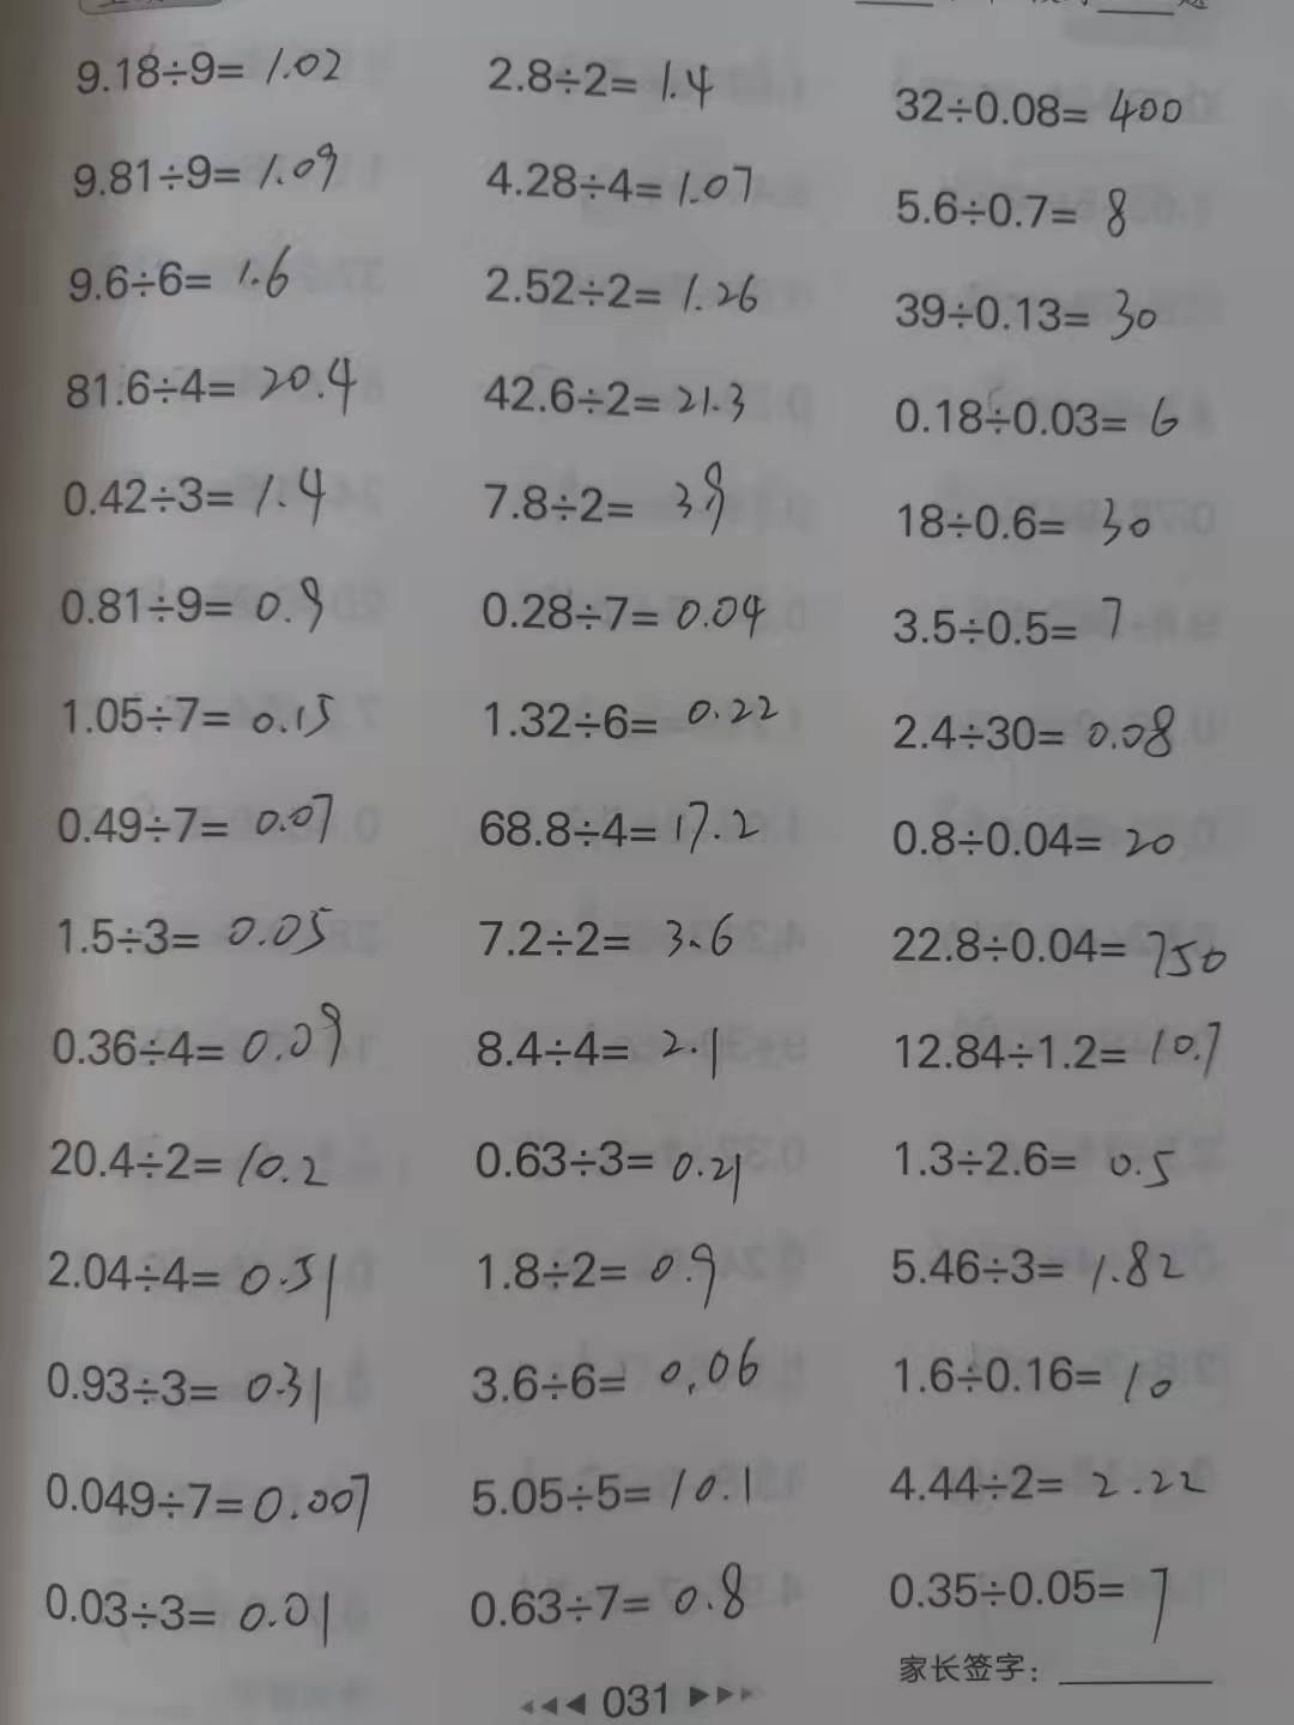equation: (35, 1229, 349, 1334), (875, 1551, 1188, 1650), (882, 905, 1246, 990), (473, 1319, 773, 1419), (34, 1566, 345, 1662), (37, 1457, 382, 1543), (862, 1219, 1203, 1304), (30, 994, 356, 1081), (873, 1113, 1192, 1200), (458, 1127, 763, 1218), (27, 1346, 338, 1434), (464, 673, 794, 756), (874, 685, 1189, 771), (879, 1437, 1221, 1516), (462, 249, 769, 336), (453, 1566, 775, 1649), (470, 446, 739, 545), (453, 1434, 773, 1514), (443, 1014, 735, 1100), (56, 338, 366, 419), (473, 565, 775, 647), (470, 786, 772, 867), (885, 1014, 1233, 1085), (879, 375, 1200, 451), (56, 888, 345, 972), (878, 802, 1185, 881), (881, 72, 1199, 148), (894, 472, 1159, 563), (45, 560, 336, 643), (882, 271, 1173, 353), (888, 1339, 1196, 1415), (881, 582, 1144, 670), (459, 144, 768, 219), (34, 1126, 351, 1198), (54, 782, 353, 858), (470, 360, 764, 435), (462, 894, 745, 972), (64, 137, 351, 213), (37, 680, 351, 749), (469, 1240, 750, 1314), (48, 464, 344, 533), (65, 227, 311, 307), (878, 174, 1140, 247), (71, 41, 357, 106), (476, 45, 731, 116)
